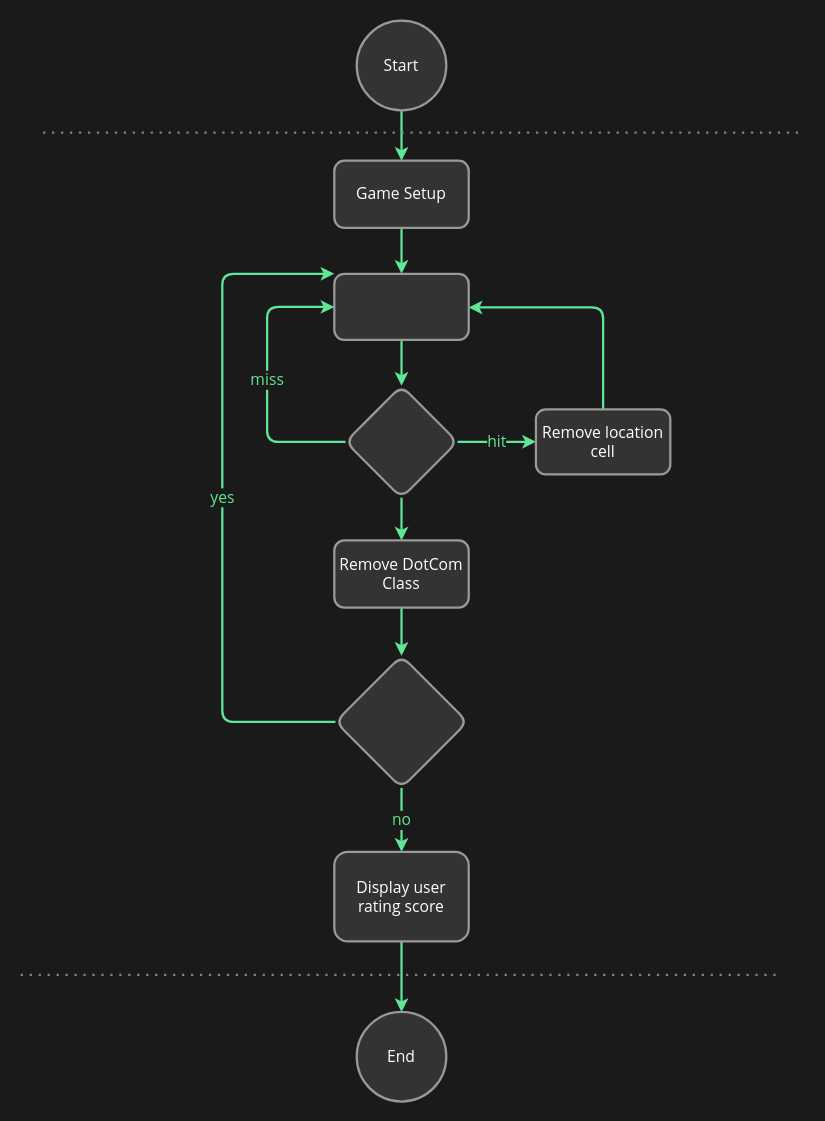
The diagram is 825 pixels wide and 1121 high, and some of its shapes have lost their labels. The centre of each missing label's shape, as x and y in pixels:
Check guess: point (401, 441)
Get user guess: point (401, 306)
Still some dot coms alive ?: point (401, 721)
